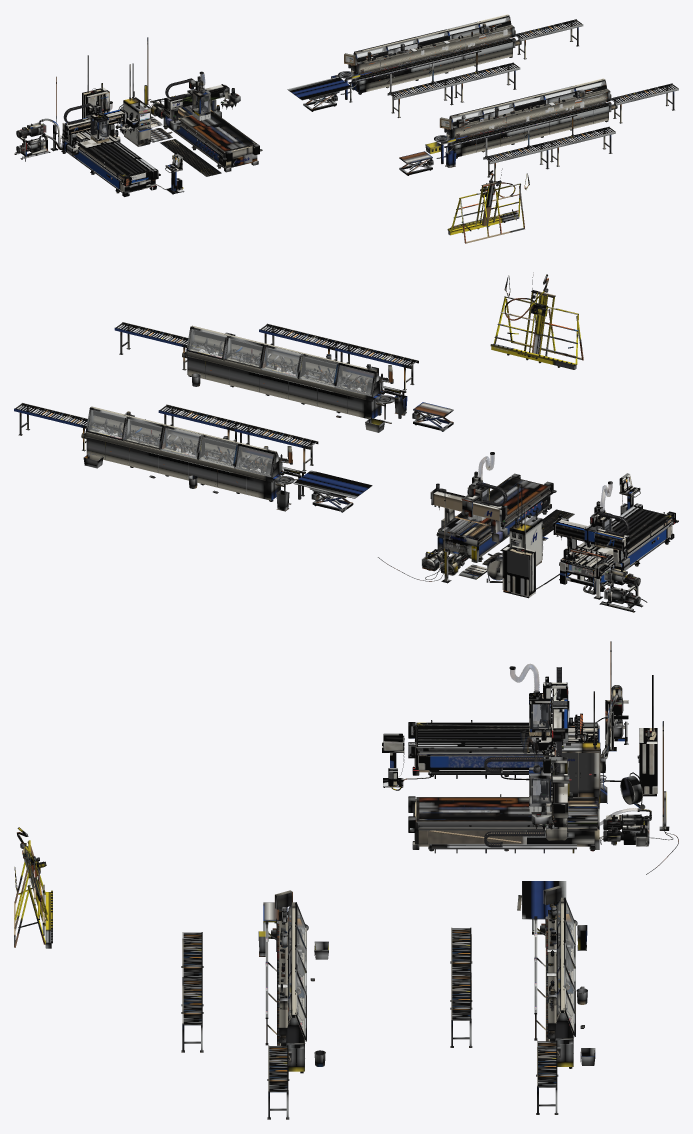
The model's file is shop_skins.glb.
3 views of the same model, one above another, from view 1: azimuth 30°, elevation 25°; view 2: azimuth 150°, elevation 25°; view 3: azimuth 270°, elevation 25° (orthographic). The views are drawn at different scales.
Parts seen in each view (by area): view 1: Skin_EB1, Skin_EB2, Skin_CNC2, Skin_CNC1, Skin_PanelSaw; view 2: Skin_EB1, Skin_EB2, Skin_CNC1, Skin_CNC2, Skin_PanelSaw; view 3: Skin_CNC2, Skin_CNC1, Skin_EB1, Skin_EB2, Skin_PanelSaw.
Part boxes in pixels (x1=…): Skin_EB1: x1=287, y1=14, x2=583, y2=117; Skin_EB2: x1=399, y1=78, x2=678, y2=181; Skin_CNC2: x1=115, y1=37, x2=262, y2=176; Skin_CNC1: x1=14, y1=55, x2=184, y2=196; Skin_PanelSaw: x1=447, y1=168, x2=529, y2=243; Skin_EB1: x1=14, y1=403, x2=372, y2=512; Skin_EB2: x1=114, y1=322, x2=453, y2=432; Skin_CNC1: x1=502, y1=473, x2=678, y2=612; Skin_CNC2: x1=378, y1=452, x2=574, y2=583; Skin_PanelSaw: x1=490, y1=272, x2=583, y2=369; Skin_CNC2: x1=408, y1=691, x2=678, y2=874; Skin_CNC1: x1=382, y1=641, x2=657, y2=796; Skin_EB1: x1=450, y1=881, x2=595, y2=1114; Skin_EB2: x1=181, y1=890, x2=328, y2=1119; Skin_PanelSaw: x1=14, y1=827, x2=52, y2=948.
Bounding box in the file's own units: 25.94 × 3.31 × 18.28.
138 materials, 133 textured.
